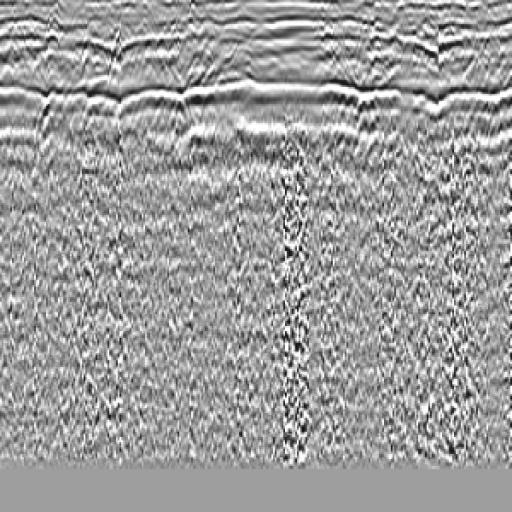non-metallic: (398, 63, 470, 223)
